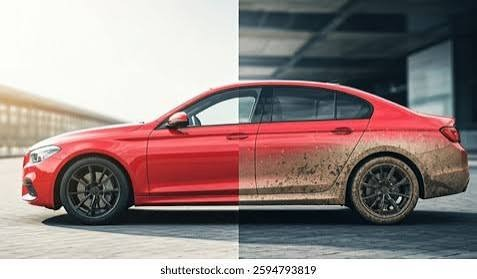car: (17, 78, 477, 226)
